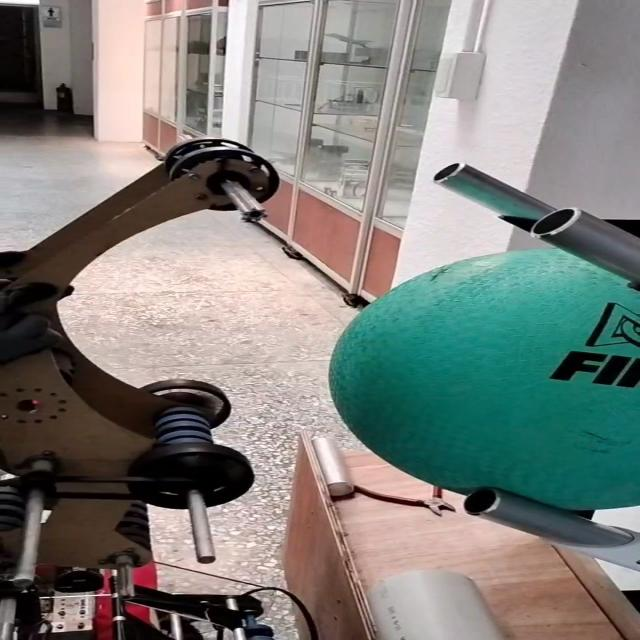ALGAE: (326, 244, 640, 512)
CORAL: (359, 567, 516, 640)
